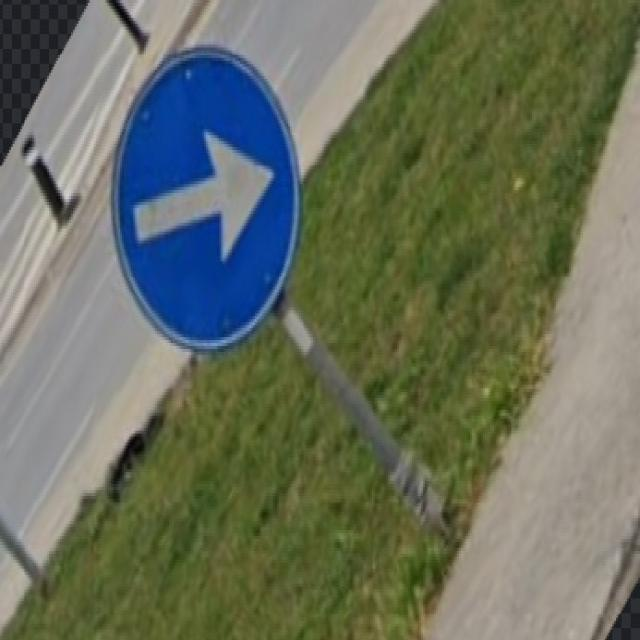Turn Right: (100, 48, 302, 351)
